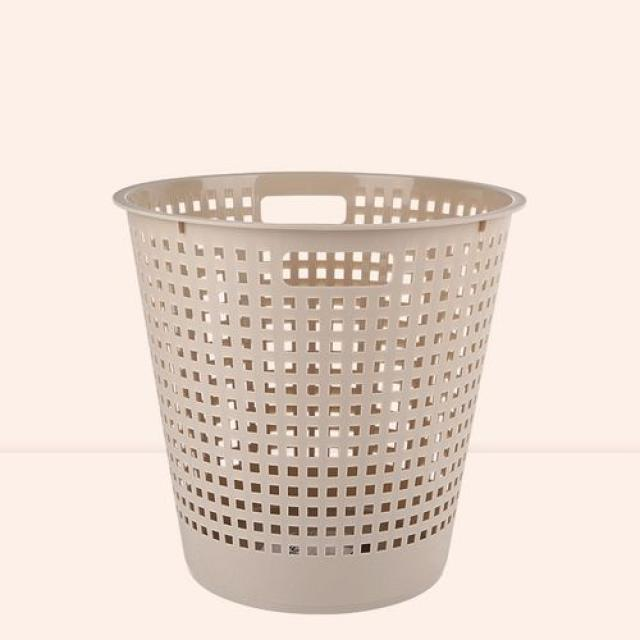dustbin: (105, 160, 532, 624)
